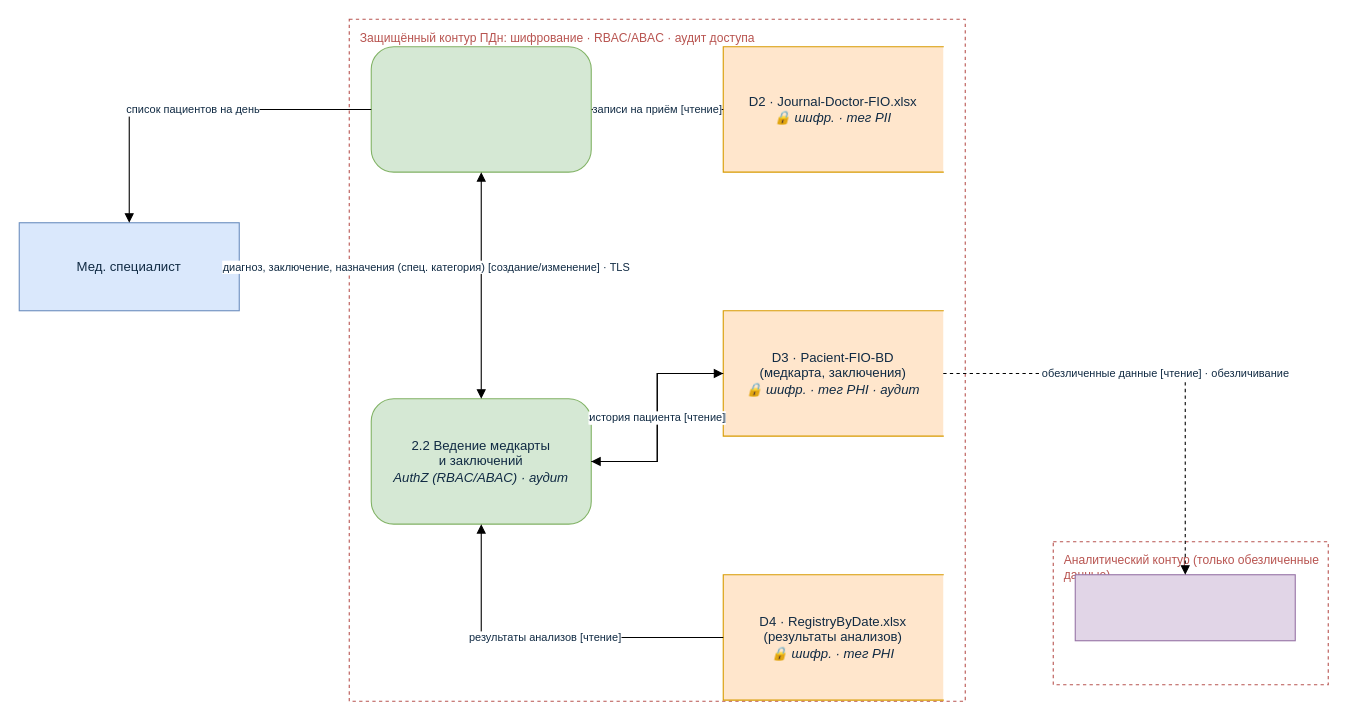
The diagram is 1348 pixels wide and 721 high, and some of its shapes have lost their labels. Here are the shapes that lost their labels. From the top down, the centre of each, then its label:
[480,109]: 2.1 Просмотр журнала записей AuthZ (RBAC/ABAC) · аудит
[1184,607]: BI / ML (аналитический контур)
